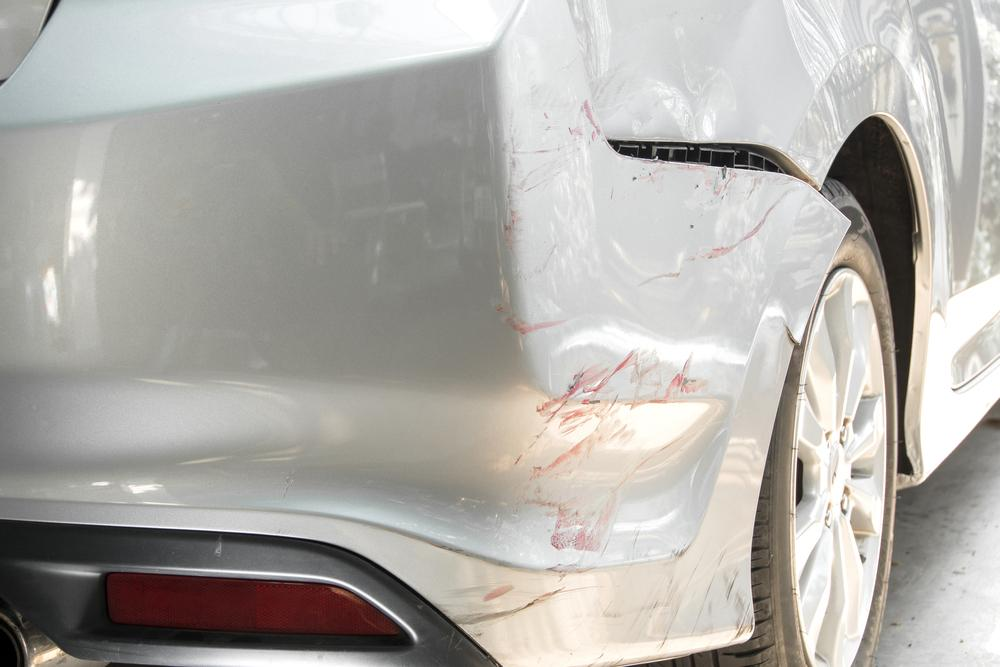crack: (784, 322, 801, 345)
scratch: (455, 346, 762, 662), (484, 94, 798, 344)
